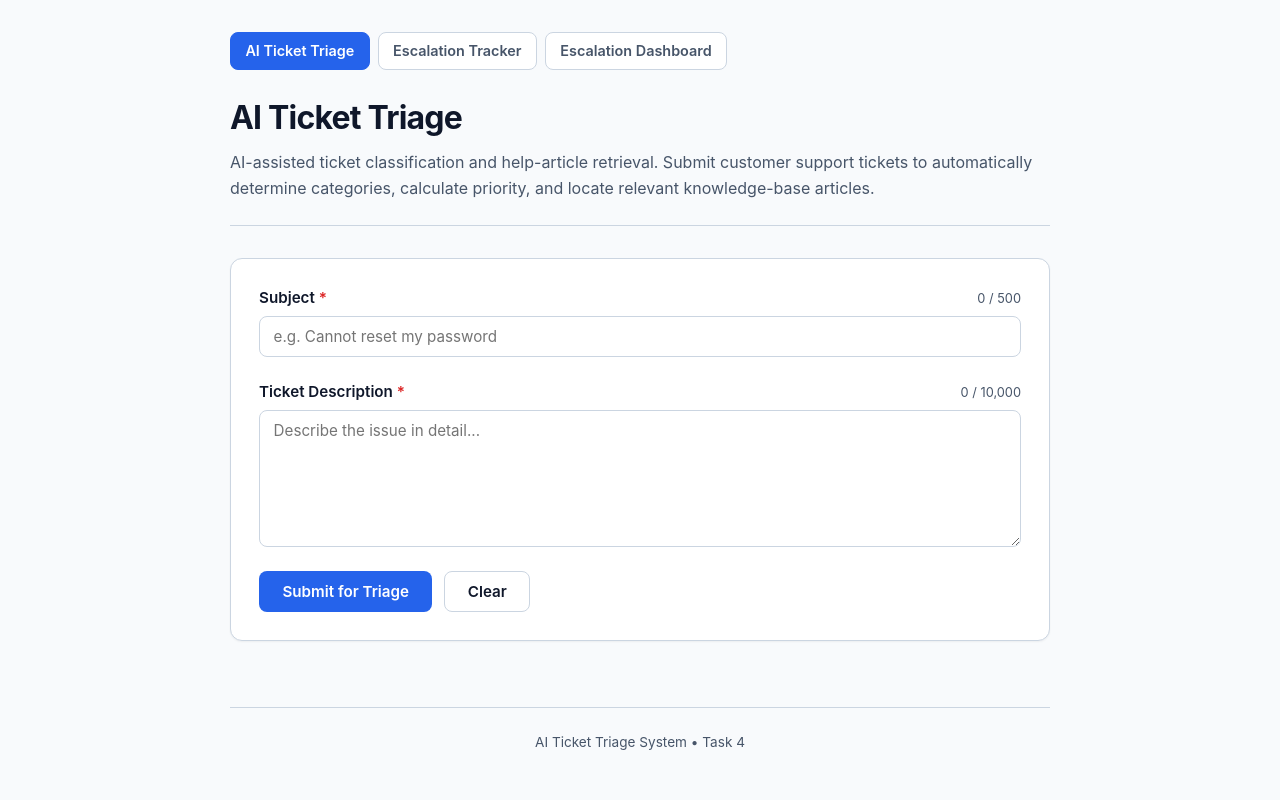
Test case: Escalation Dashboard › opens from the navigation at #/dashboard
Click the link "Escalation Dashboard" at point(636, 51), box [545,32,727,70]
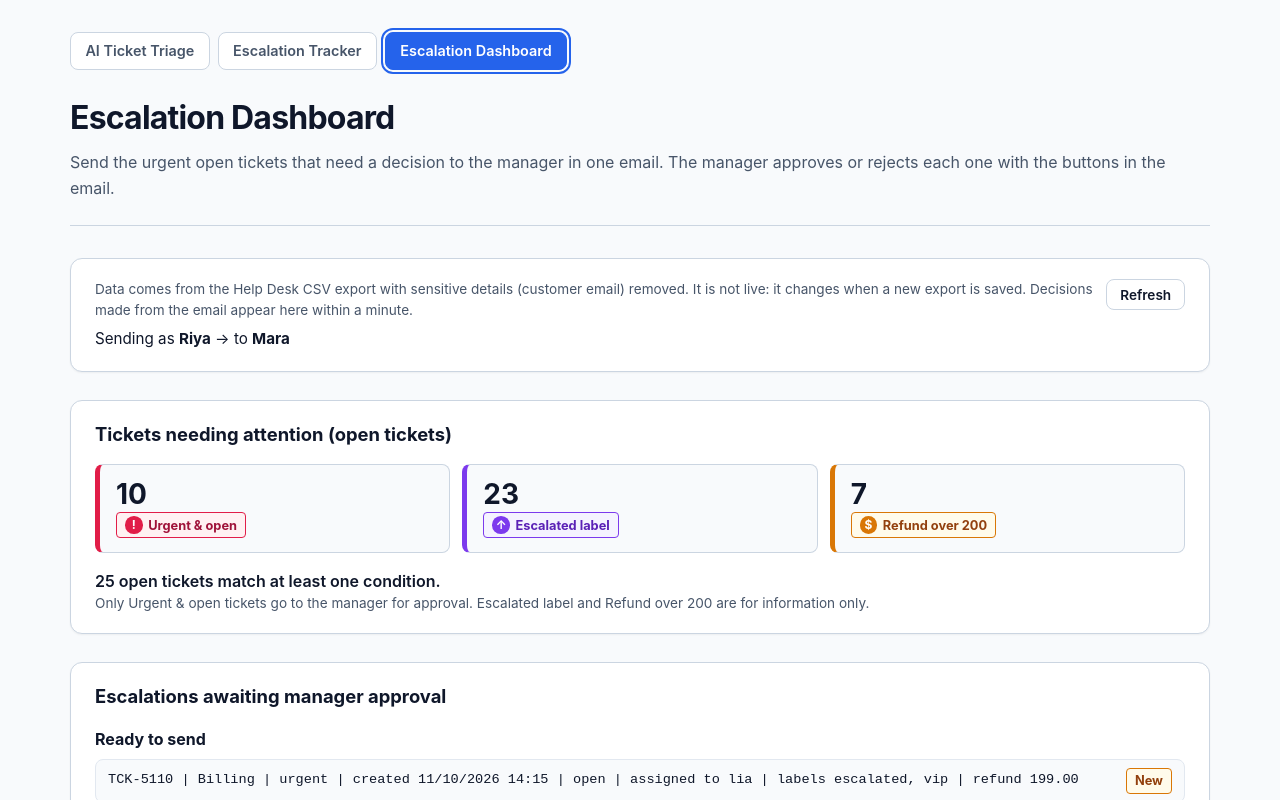
Check: the link "AI Ticket Triage" is shown, box [70,32,210,70]
Check: the heading "Escalation Dashboard" is shown, box [70,98,394,137]
